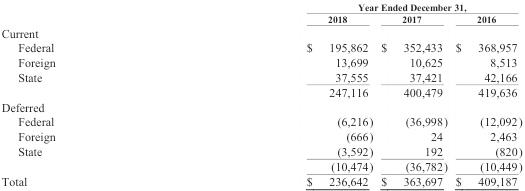table: (0, 1, 521, 187)
table column: (180, 1, 376, 187), (0, 1, 180, 187), (376, 1, 450, 187), (450, 1, 521, 187)
table column header: (0, 1, 521, 25)
table projected row header: (0, 99, 521, 114), (0, 25, 521, 39)
table row: (0, 39, 521, 54), (0, 54, 521, 69), (0, 69, 521, 84), (0, 84, 521, 99), (0, 99, 521, 114), (0, 128, 521, 143), (0, 143, 521, 158), (0, 158, 521, 173), (0, 25, 521, 39), (0, 114, 521, 128), (0, 173, 521, 187), (0, 12, 521, 25), (0, 1, 521, 12)
table spanning cell: (180, 1, 521, 12)
